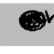correct: (15, 8, 54, 36)
